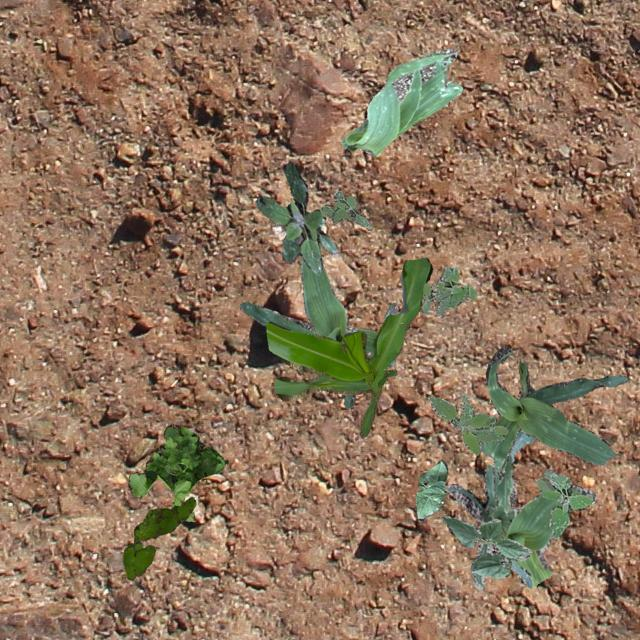crop: (266, 256, 432, 436), (240, 255, 396, 408), (446, 430, 594, 590), (479, 346, 626, 470), (341, 46, 462, 156), (442, 516, 530, 578), (414, 460, 446, 520)
weed: (128, 424, 228, 520), (255, 162, 336, 276), (122, 496, 194, 580), (427, 392, 508, 453), (534, 468, 594, 538), (418, 266, 476, 316), (320, 190, 370, 230)
